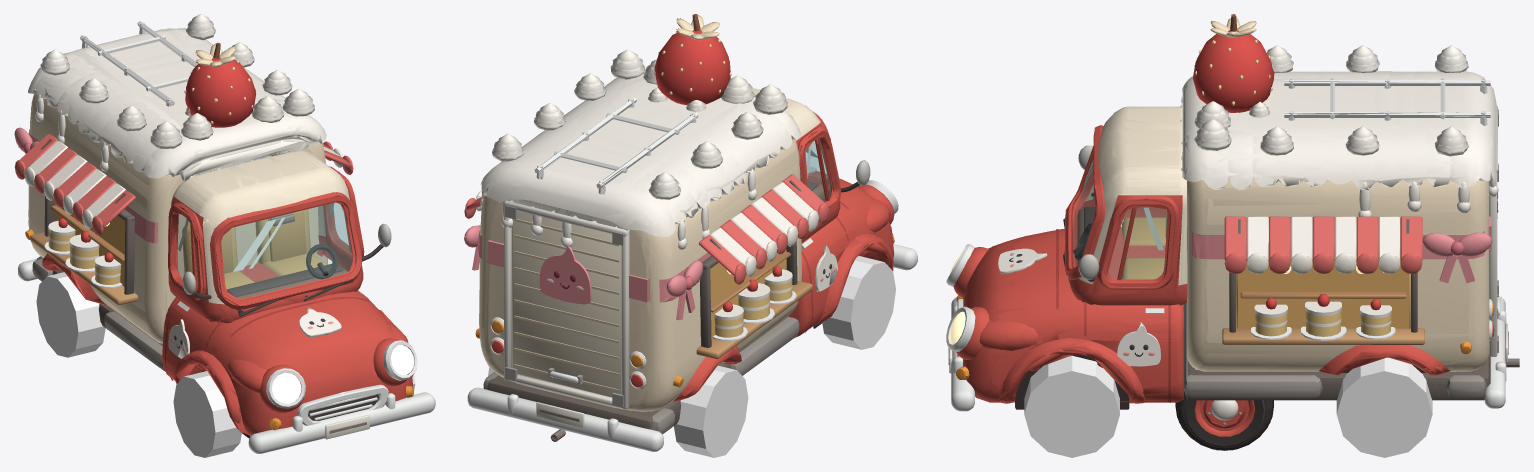
The model's file is truck_v2-Dkq4JWVU.glb.
The picture shows the model from 3 angles, left to right: view 1: azimuth 30°, elevation 25°; view 2: azimuth 150°, elevation 25°; view 3: azimuth 270°, elevation 25°; orthographic projection. The views are drawn at different scales.
Parts seen in each view (by area): view 1: body_near, shadow, body_chase; view 2: body_near, shadow, body_chase; view 3: body_near, shadow, body_chase, wheel_near, wheel_chase.
Boxes of the visible parts, x1=… form: body_near: x1=14, y1=14, x2=435, y2=453; shadow: x1=16, y1=20, x2=435, y2=457; body_chase: x1=14, y1=22, x2=433, y2=453; body_near: x1=464, y1=14, x2=917, y2=451; shadow: x1=465, y1=16, x2=917, y2=457; body_chase: x1=464, y1=16, x2=917, y2=451; body_near: x1=946, y1=14, x2=1519, y2=411; shadow: x1=952, y1=18, x2=1506, y2=457; body_chase: x1=946, y1=18, x2=1519, y2=410; wheel_near: x1=1175, y1=391, x2=1273, y2=450; wheel_chase: x1=1179, y1=393, x2=1270, y2=450.
Bounding box in the file's own units: 2.32 × 3.26 × 3.95.
